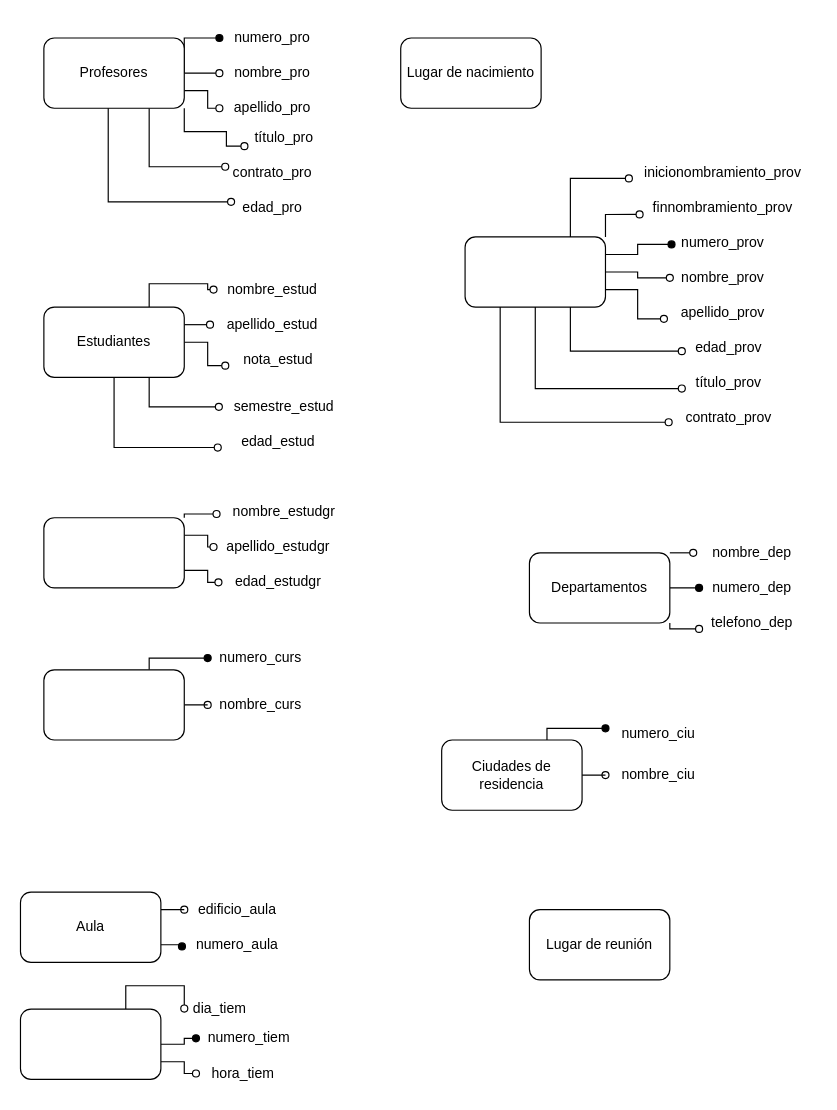
Some shapes in this 837 by 1110 pixel diagram are drawn without their labels. The shapes that lost their labels are listed below. From the top down, each one's box as (x1, y1, x2, y2) in pixels, then its label:
(464, 236, 605, 307): Profesores visitantes
(43, 517, 184, 588): Estudiantes graduados
(43, 669, 184, 740): Cursos
(19, 1008, 161, 1079): Tiempo
